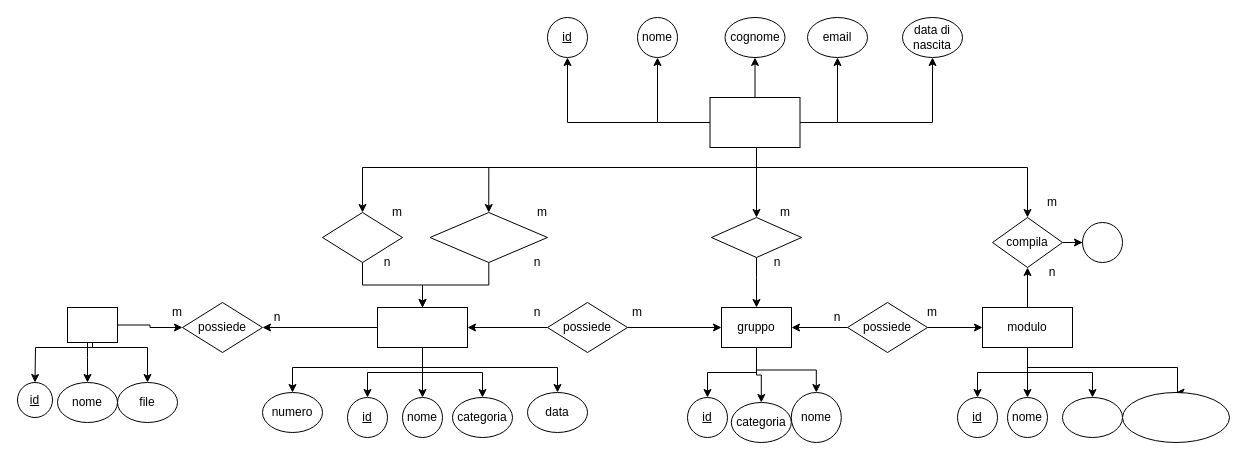
Some shapes in this 1247 by 460 pixel diagram are drawn without their labels. The shapes that lost their labels are listed below. From the top down, each one's box as (x1, y1, x2, y2) in pixels, then its label:
(709, 96, 800, 148): utente
(322, 212, 402, 262): preferiti
(429, 212, 548, 262): visualizza
(710, 216, 802, 258): fa parte
(1082, 222, 1122, 262): firma
(66, 306, 118, 342): allegato
(376, 306, 468, 348): circolare
(1062, 396, 1122, 438): contenuto
(1122, 392, 1230, 442): data_scadenza
